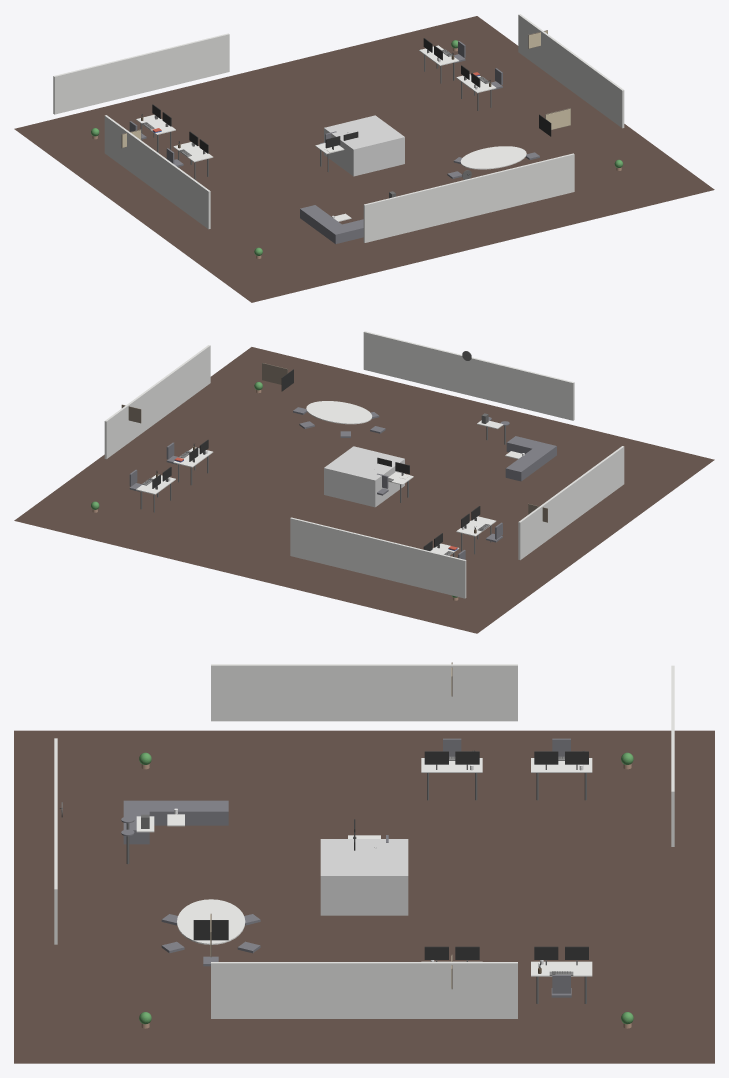
The model's file is office_v30.glb.
The picture shows the model from 3 angles, top to bottom: view 1: azimuth 30°, elevation 25°; view 2: azimuth 150°, elevation 25°; view 3: azimuth 270°, elevation 25°; orthographic projection. The views are drawn at different scales.
Visible parts, largest first — view 1: Floor, Cube.001, Cube.002, Cube.003, Cube.004, Cube, Cylinder.055, Cube.267, Cube.268; view 2: Floor, Cube.001, Cube.002, Cube.003, Cube.004, Cube, Cylinder.055, Cube.267, Cube.268; view 3: Floor, Cube.003, Cube.004, Cube, Cube.267, Cylinder.055, Cube.268, Desk_5, Cube.001, Cube.266, Cube.002.
Boxes of the visible parts, x1,y1,x2,y2 form: Floor: (14,16,714,302); Cube.001: (363,153,574,242); Cube.002: (53,33,229,114); Cube.003: (104,115,210,229); Cube.004: (518,14,624,128); Cube: (324,115,404,176); Cylinder.055: (460,146,526,169); Cube.267: (300,205,341,237); Cube.268: (326,219,363,243); Floor: (14,347,714,633); Cube.001: (363,331,574,420); Cube.002: (290,517,466,598); Cube.003: (518,446,624,560); Cube.004: (104,345,210,459); Cube: (324,446,404,507); Cylinder.055: (306,401,372,424); Cube.267: (505,449,547,481); Cube.268: (506,436,556,461); Floor: (14,730,714,1063); Cube.003: (211,664,517,721); Cube.004: (211,962,517,1018); Cube: (320,839,408,915); Cube.267: (149,800,228,825); Cylinder.055: (177,899,245,944); Cube.268: (123,800,149,844); Desk_5: (531,961,592,976); Cube.001: (54,738,57,944); Cube.266: (193,920,228,940); Cube.002: (671,665,674,846).
Bounding box in the file's own units: 18 × 3.38 × 16.
